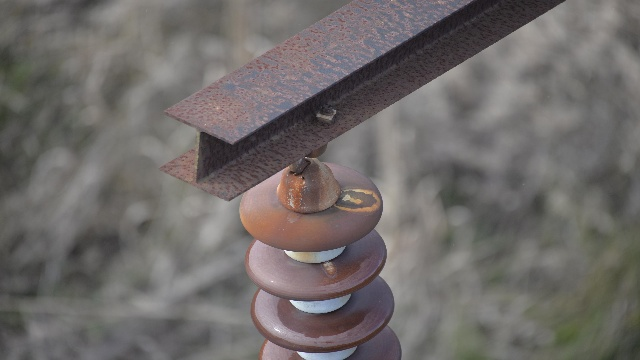insulator_unspecified: (237, 163, 403, 359)
pollution_flashover_local: (330, 181, 382, 213), (320, 260, 337, 278)
